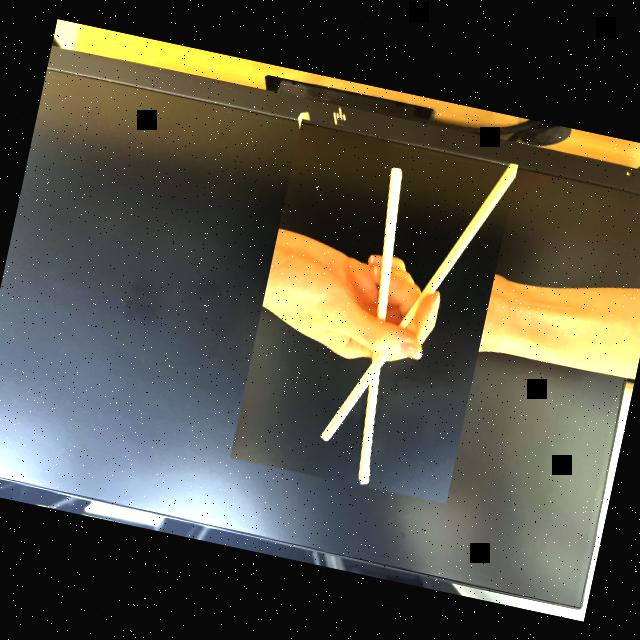stick: (230, 119, 518, 503)
